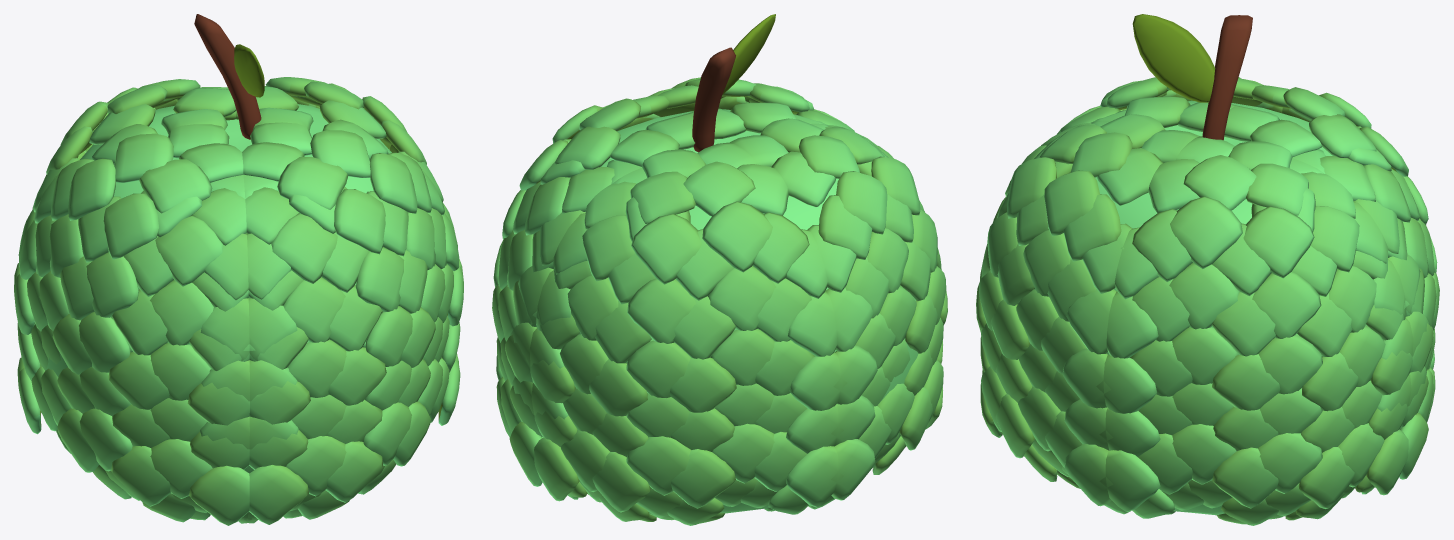
The model's file is apple_ecaille.fbx.
The picture shows the model from 3 angles, left to right: view 1: azimuth 30°, elevation 25°; view 2: azimuth 150°, elevation 25°; view 3: azimuth 270°, elevation 25°; orthographic projection. The views are drawn at different scales.
Visible parts, largest first — view 1: apple_standart.002, apple_standart.001, apple_standart; view 2: apple_standart.002, apple_standart.001, apple_standart; view 3: apple_standart.002, apple_standart.001, apple_standart.
Part boxes in pixels (left/top/right/bottom): apple_standart.002: left=14, top=77, right=463, bottom=525; apple_standart.001: left=194, top=14, right=264, bottom=139; apple_standart: left=34, top=104, right=391, bottom=473; apple_standart.002: left=492, top=77, right=947, bottom=525; apple_standart.001: left=692, top=14, right=775, bottom=152; apple_standart: left=578, top=109, right=918, bottom=513; apple_standart.002: left=976, top=77, right=1439, bottom=525; apple_standart.001: left=1132, top=14, right=1252, bottom=140; apple_standart: left=1017, top=100, right=1366, bottom=515.
Size of the model in its own units: 59.69 by 66.05 by 61.54.
